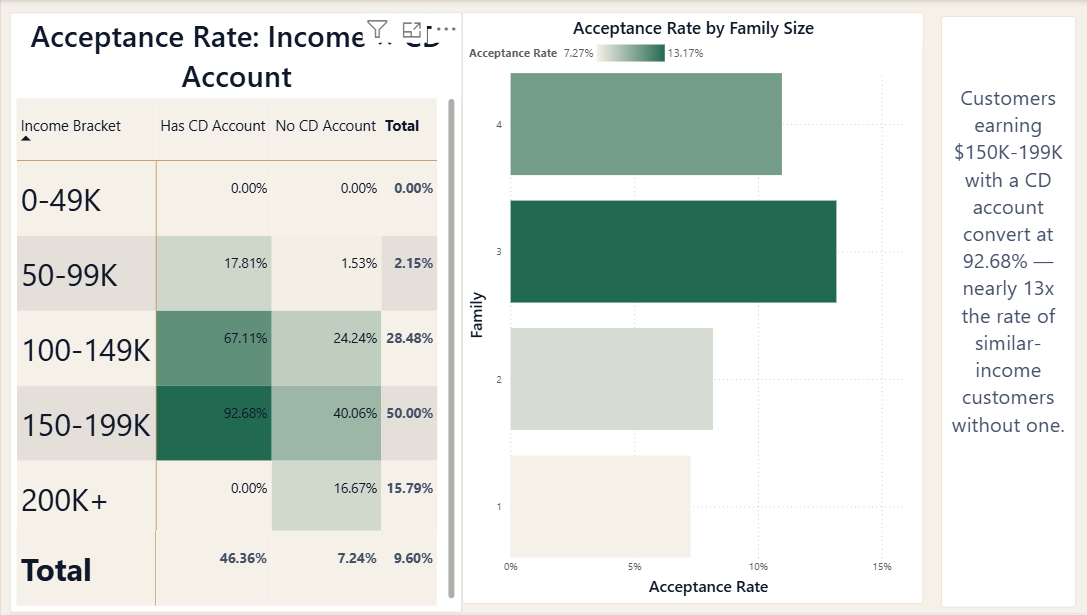

Layout of this report page (visuals, bound fields, positions):
{"tool":"powerbi","page":{"name":"Segment Analysis","canvas":[1280,720],"ordinal":1},"visuals":[{"type":"pivotTable","title":"Acceptance Rate: Income × CD Account","fields":{"Rows":["bank_loan_cleaned.Income Bracket"],"Values":["bank_loan_cleaned.Acceptance Rate"],"Columns":["bank_loan_cleaned.CD Account Label"]},"box":[10.3,14.7,531.5,704.8],"z":0},{"type":"textbox","box":[1104.1,38.2,176.2,643.1],"z":1000},{"type":"clusteredBarChart","title":"Acceptance Rate by Family Size","fields":{"Y":["bank_loan_cleaned.Acceptance Rate"],"Category":["bank_loan_cleaned.Family"]},"box":[541.8,14.7,541.8,694.5],"z":1001}]}

Visuals, with their boxes in screenshot pixels (x1, y1, x2, y2), scaled from the page's 1280x720 canvas onto the 1087x615 screenshot:
"Acceptance Rate: Income × CD Account" pivotTable: 9,13,460,614
textbox: 938,33,1086,582
"Acceptance Rate by Family Size" clusteredBarChart: 460,13,920,606
